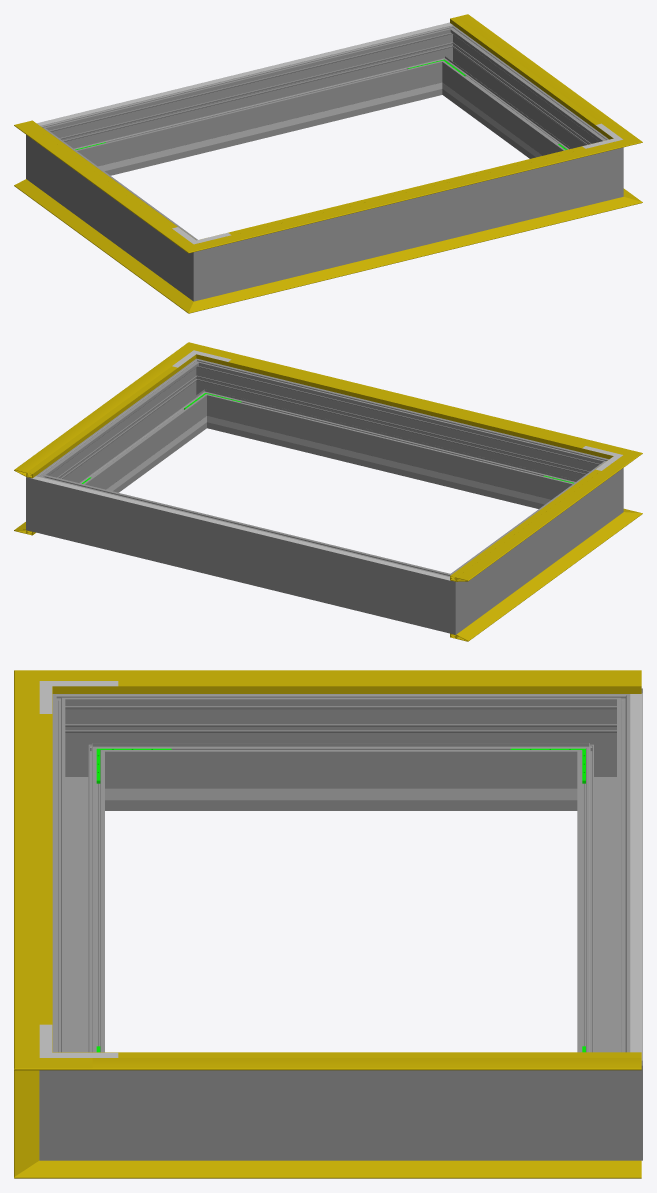
The picture shows the model from 3 angles, top to bottom: view 1: azimuth 30°, elevation 25°; view 2: azimuth 150°, elevation 25°; view 3: azimuth 270°, elevation 25°; orthographic projection. The views are drawn at different scales.
Parts seen in each view (by area): view 1: 3DGeom-276, 3DGeom-298, 3DGeom-297, 3DGeom-268, 3DGeom-28, 3DGeom-141, 3DGeom-270, 3DGeom-145, 3DGeom-38, 3DGeom-290, 3DGeom-147, 3DGeom-244 (+11 smaller); view 2: 3DGeom-298, 3DGeom-276, 3DGeom-297, 3DGeom-268, 3DGeom-141, 3DGeom-278, 3DGeom-145, 3DGeom-38, 3DGeom-284, 3DGeom-147, 3DGeom-239, 3DGeom-290 (+8 smaller); view 3: 3DGeom-268, 3DGeom-297, 3DGeom-276, 3DGeom-298, 3DGeom-147, 3DGeom-30, 3DGeom-141, 3DGeom-145, 3DGeom-284, 3DGeom-290, 3DGeom-278, 3DGeom-270 (+13 smaller).
Part boxes in pixels (x1,y1,x2,y2): 3DGeom-276: [67, 33, 436, 175]; 3DGeom-298: [231, 156, 585, 292]; 3DGeom-297: [446, 38, 595, 158]; 3DGeom-268: [47, 139, 183, 285]; 3DGeom-28: [219, 203, 604, 304]; 3DGeom-141: [219, 146, 604, 244]; 3DGeom-270: [172, 230, 231, 301]; 3DGeom-145: [450, 14, 620, 134]; 3DGeom-38: [14, 179, 178, 297]; 3DGeom-290: [585, 129, 623, 205]; 3DGeom-147: [14, 121, 181, 236]; 3DGeom-244: [112, 91, 405, 169]; 3DGeom-298: [213, 366, 582, 508]; 3DGeom-276: [63, 481, 424, 625]; 3DGeom-297: [54, 372, 203, 492]; 3DGeom-268: [466, 472, 601, 618]; 3DGeom-141: [215, 351, 604, 455]; 3DGeom-278: [418, 563, 477, 634]; 3DGeom-145: [14, 358, 185, 478]; 3DGeom-38: [450, 523, 620, 641]; 3DGeom-284: [26, 463, 70, 539]; 3DGeom-147: [450, 466, 620, 581]; 3DGeom-239: [243, 425, 537, 502]; 3DGeom-290: [178, 358, 227, 430]; 3DGeom-268: [118, 694, 564, 810]; 3DGeom-297: [118, 1070, 564, 1160]; 3DGeom-276: [577, 721, 642, 1052]; 3DGeom-298: [52, 721, 104, 1052]; 3DGeom-147: [92, 670, 641, 693]; 3DGeom-30: [92, 1160, 641, 1178]; 3DGeom-141: [14, 703, 52, 1035]; 3DGeom-145: [92, 1052, 641, 1070]; 3DGeom-284: [564, 1032, 642, 1160]; 3DGeom-290: [39, 1032, 117, 1160]; 3DGeom-278: [564, 688, 642, 810]; 3DGeom-270: [52, 694, 117, 810].
Size of the model in its own units: 1.83 by 0.2357 by 1.22.
